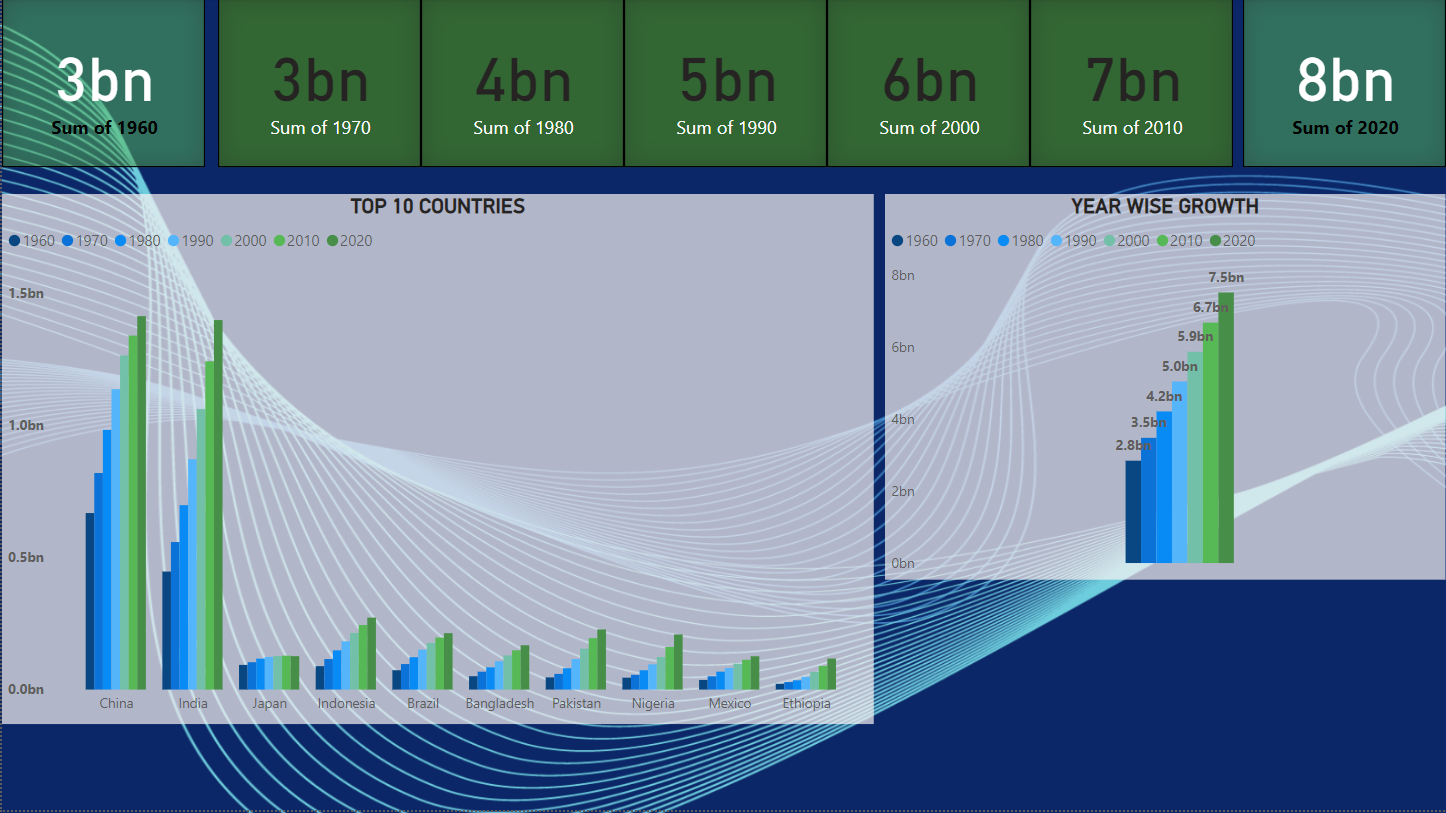

This screenshot's page, from the dashboard's own definition file:
{"tool":"powerbi","page":{"name":"Page 1","canvas":[1280,720],"ordinal":0},"visuals":[{"type":"card","fields":{"Values":["Sum(GLOBAL (3).1960)"]},"box":[0,0,180,149.9],"z":0},{"type":"card","fields":{"Values":["Sum(GLOBAL (3).2020)"]},"box":[1100,0,180,149.9],"z":1000},{"type":"card","fields":{"Values":["Sum(GLOBAL (3).1970)"]},"box":[191.5,0,180,149.9],"z":2000},{"type":"card","fields":{"Values":["Sum(GLOBAL (3).1980)"]},"box":[371.6,0,180,149.9],"z":3000},{"type":"card","fields":{"Values":["Sum(GLOBAL (3).1990)"]},"box":[551.5,0,180,149.9],"z":4000},{"type":"card","fields":{"Values":["Sum(GLOBAL (3).2000)"]},"box":[731.5,0,180,149.9],"z":5000},{"type":"card","fields":{"Values":["Sum(GLOBAL (3).2010)"]},"box":[911.5,0,180,149.9],"z":6000},{"type":"clusteredColumnChart","title":"TOP 10 COUNTRIES","fields":{"Category":["Official Data.Country Name"],"Y":["Sum(Official Data.1960)","Sum(Official Data.1970)","Sum(Official Data.1980)","Sum(Official Data.1990)","Sum(Official Data.2000)","Sum(Official Data.2010)","Sum(Official Data.2020)"]},"box":[0,173.9,772.7,469.8],"z":7000},{"type":"clusteredColumnChart","title":"YEAR WISE GROWTH","fields":{"Y":["Sum(Official Data.1960)","Sum(Official Data.1970)","Sum(Official Data.1980)","Sum(Official Data.1990)","Sum(Official Data.2000)","Sum(Official Data.2010)","Sum(Official Data.2020)"]},"box":[783.2,173.9,497,341.6],"z":8000}]}

Visuals, with their boxes in screenshot pixels (x1, y1, x2, y2), scaled from the page's 1280x720 canvas onto the 1446x813 screenshot:
card - Sum(GLOBAL (3).1960): 0,0,203,169
card - Sum(GLOBAL (3).2020): 1243,0,1445,169
card - Sum(GLOBAL (3).1970): 216,0,420,169
card - Sum(GLOBAL (3).1980): 420,0,623,169
card - Sum(GLOBAL (3).1990): 623,0,826,169
card - Sum(GLOBAL (3).2000): 826,0,1030,169
card - Sum(GLOBAL (3).2010): 1030,0,1233,169
"TOP 10 COUNTRIES" clusteredColumnChart: 0,196,873,727
"YEAR WISE GROWTH" clusteredColumnChart: 885,196,1445,582
